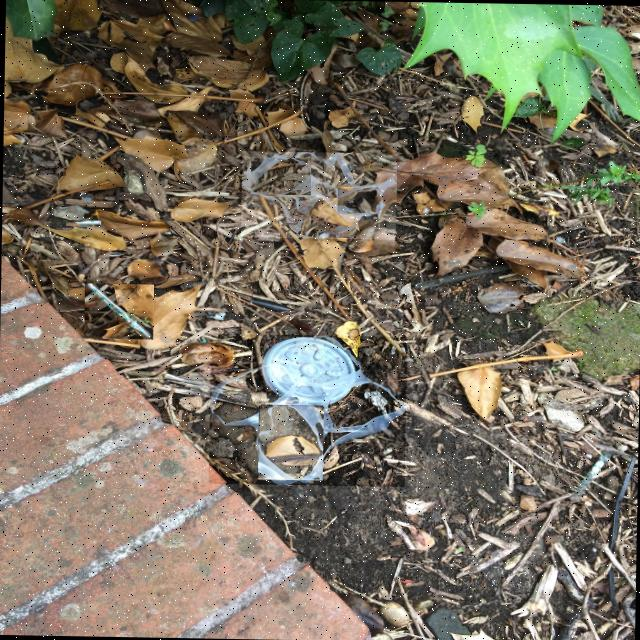Aluminium foil: (365, 390, 388, 414)
Plastic film: (85, 284, 152, 338), (570, 450, 612, 501), (66, 221, 100, 225)
Plastic lid: (262, 338, 355, 406)
Six pack rings: (210, 335, 405, 484), (242, 153, 396, 238), (259, 405, 323, 480), (298, 199, 356, 237), (250, 159, 310, 194), (338, 189, 380, 213)
Unlabeled litter: (414, 264, 510, 288), (251, 297, 291, 311)
